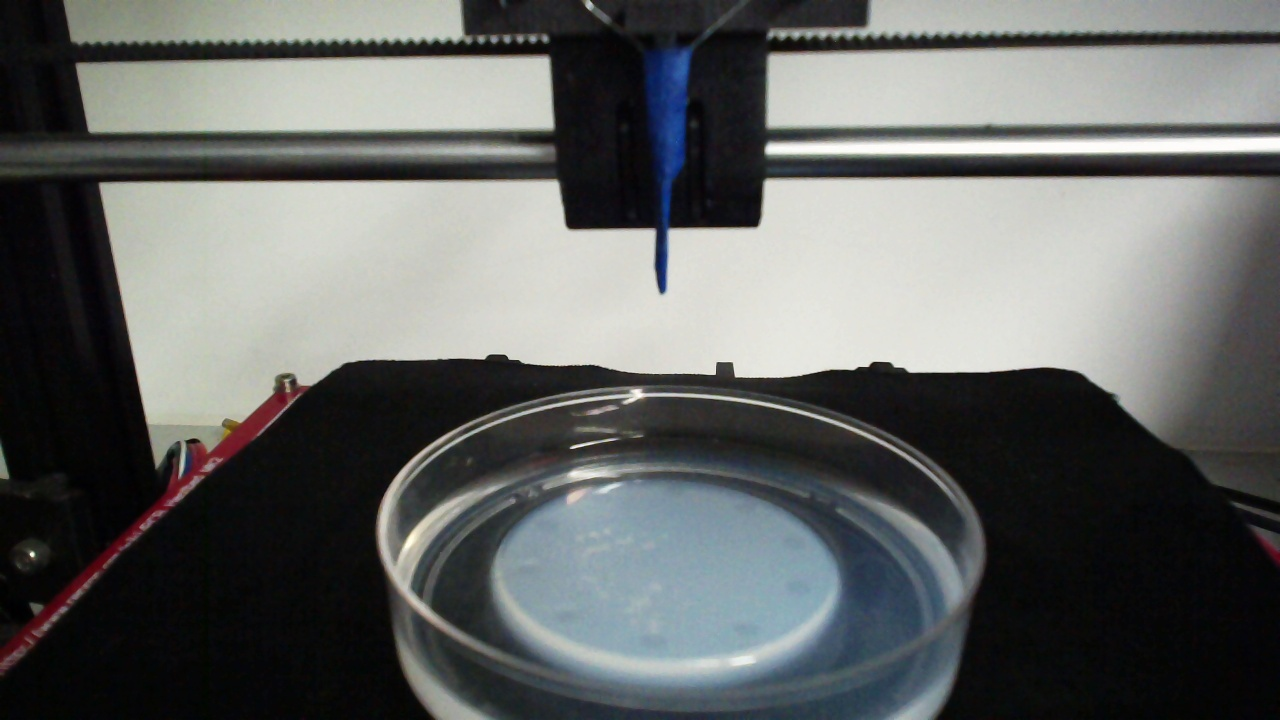groove: (732, 622, 763, 638), (786, 579, 813, 597), (639, 633, 669, 649), (662, 481, 688, 499), (781, 534, 807, 551), (553, 609, 580, 625), (733, 499, 758, 516), (535, 519, 560, 532), (517, 563, 541, 576)
needle: (646, 50, 688, 294)
